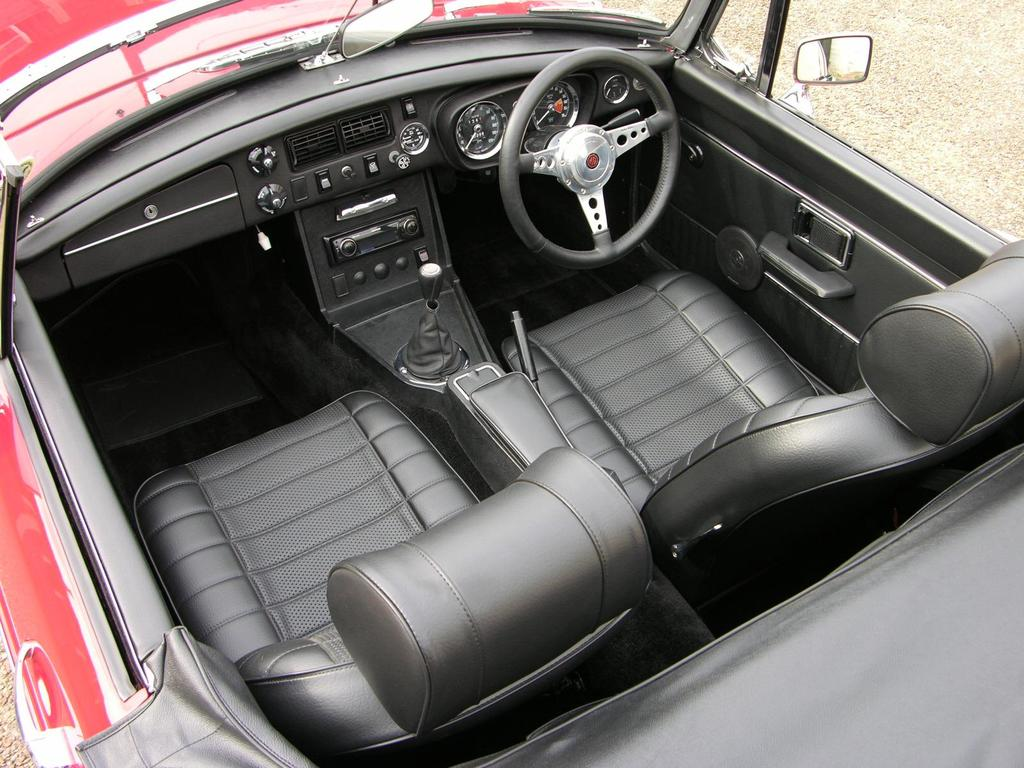Car: (1, 0, 1016, 761)
